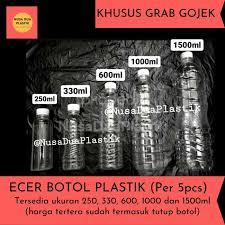BIODEGRADABLE: (65, 99, 91, 174)
